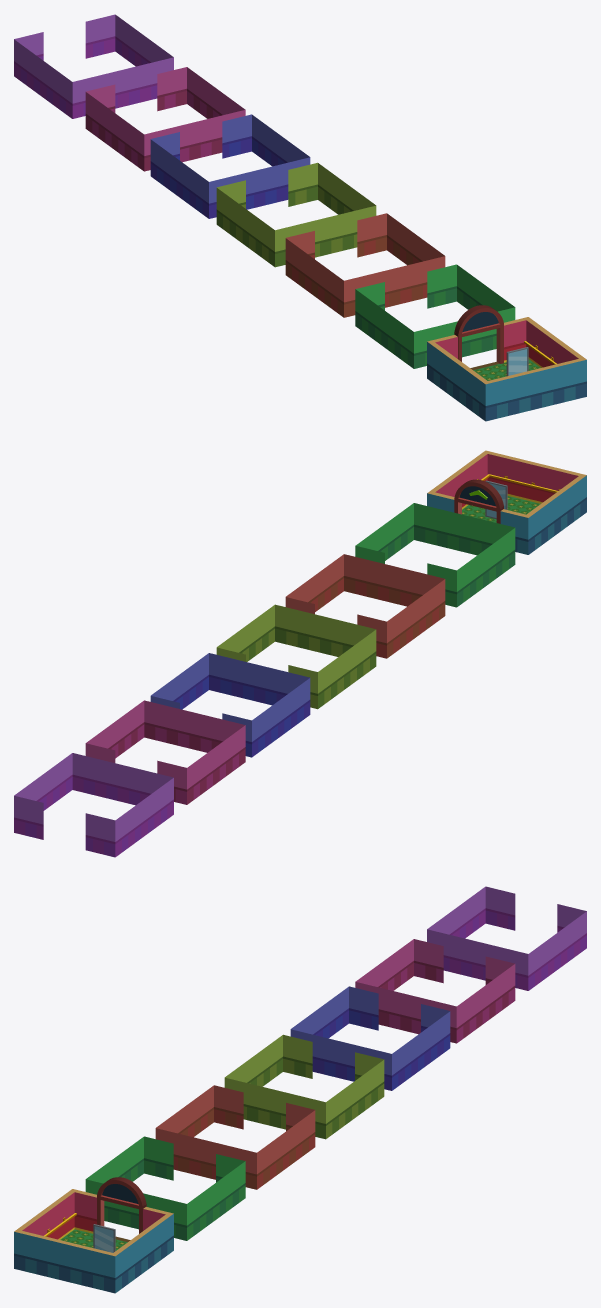
The model's file is Elevator1.fbx.
The picture shows the model from 3 angles, top to bottom: view 1: azimuth 30°, elevation 25°; view 2: azimuth 150°, elevation 25°; view 3: azimuth 330°, elevation 25°; orthographic projection.
Visible parts, largest first — view 1: Elevator1OutsideLvl7, Elevator1OutsideLvl3, Elevator1OutsideLvl4, Elevator1OutsideLvl5, Elevator1OutsideLvl6, Elevator1OutsideLvl2, Elevator1OutsideLvl1, ElevatorInside, ElevatorDoorFrame, Elevator1WallThick, ElevatorDoor; view 2: Elevator1OutsideLvl7, Elevator1OutsideLvl6, Elevator1OutsideLvl2, Elevator1OutsideLvl3, Elevator1OutsideLvl4, Elevator1OutsideLvl5, ElevatorInside, Elevator1OutsideLvl1, ElevatorDoorFrame, Elevator1WallThick; view 3: Elevator1OutsideLvl7, Elevator1OutsideLvl3, Elevator1OutsideLvl4, Elevator1OutsideLvl5, Elevator1OutsideLvl6, Elevator1OutsideLvl2, Elevator1OutsideLvl1, ElevatorInside, ElevatorDoorFrame, Elevator1WallThick, ElevatorDoor.
Boxes of the visible parts, x1,y1,x2,y2 form: Elevator1OutsideLvl7: [14, 14, 173, 118]; Elevator1OutsideLvl3: [285, 213, 445, 317]; Elevator1OutsideLvl4: [216, 162, 376, 267]; Elevator1OutsideLvl5: [150, 114, 310, 218]; Elevator1OutsideLvl6: [85, 67, 245, 171]; Elevator1OutsideLvl2: [355, 264, 515, 368]; Elevator1OutsideLvl1: [427, 342, 586, 421]; ElevatorInside: [435, 320, 578, 380]; ElevatorDoorFrame: [454, 305, 503, 370]; Elevator1WallThick: [427, 317, 586, 384]; ElevatorDoor: [506, 347, 528, 376]; Elevator1OutsideLvl7: [14, 753, 173, 857]; Elevator1OutsideLvl6: [85, 700, 245, 804]; Elevator1OutsideLvl2: [355, 503, 515, 607]; Elevator1OutsideLvl3: [285, 554, 445, 658]; Elevator1OutsideLvl4: [216, 604, 376, 709]; Elevator1OutsideLvl5: [150, 653, 310, 757]; ElevatorInside: [435, 454, 578, 522]; Elevator1OutsideLvl1: [427, 475, 586, 554]; ElevatorDoorFrame: [454, 479, 503, 523]; Elevator1WallThick: [427, 450, 586, 517]; Elevator1OutsideLvl7: [427, 886, 586, 990]; Elevator1OutsideLvl3: [155, 1085, 315, 1189]; Elevator1OutsideLvl4: [224, 1034, 384, 1139]; Elevator1OutsideLvl5: [290, 986, 450, 1090]; Elevator1OutsideLvl6: [355, 939, 515, 1043]; Elevator1OutsideLvl2: [85, 1136, 245, 1240]; Elevator1OutsideLvl1: [14, 1214, 173, 1293]; ElevatorInside: [22, 1192, 165, 1250]; ElevatorDoorFrame: [97, 1177, 146, 1242]; Elevator1WallThick: [14, 1189, 173, 1256]; ElevatorDoor: [93, 1224, 115, 1252].
Bounding box in the file's own units: 600 × 340 × 4834.
